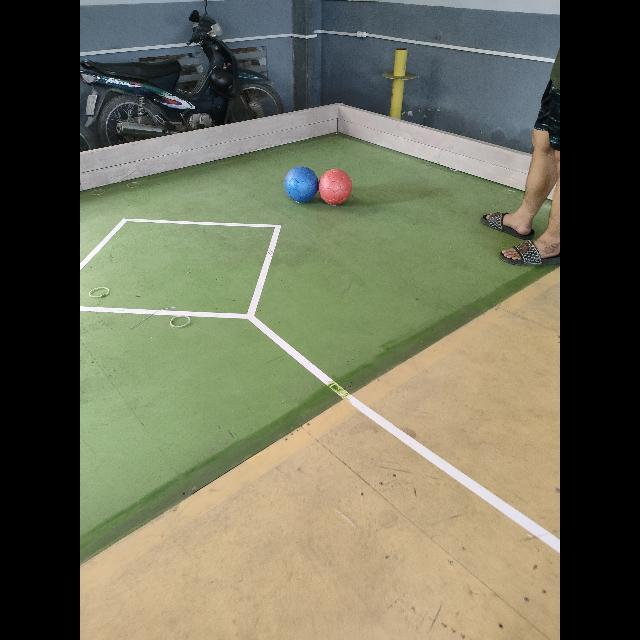B: (284, 166, 319, 202)
R: (319, 169, 352, 205)
